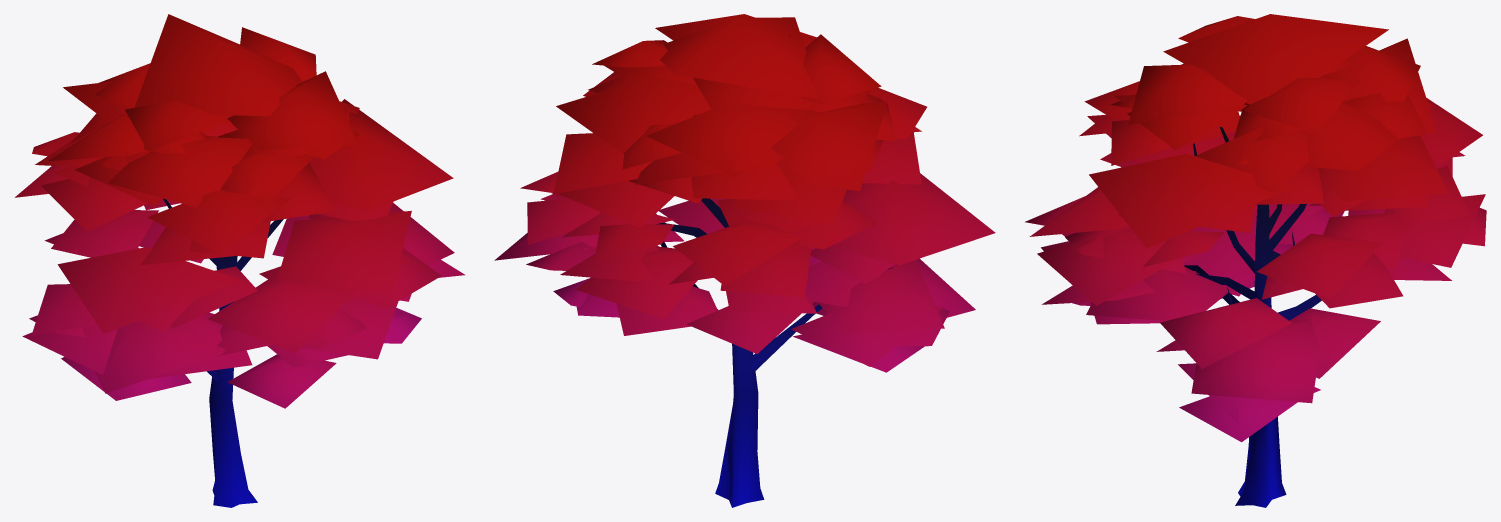
3 renders of one model, left to right at view 1: azimuth 30°, elevation 25°; view 2: azimuth 150°, elevation 25°; view 3: azimuth 270°, elevation 25°, orthographic. The views are drawn at different scales.
Parts seen in each view (by area): view 1: 25; view 2: 25; view 3: 25.
Boxes of the visible parts, left/top/right/bottom form: 25: left=15, top=14, right=464, bottom=507; 25: left=494, top=14, right=995, bottom=507; 25: left=1025, top=14, right=1486, bottom=507.
Size of the model in its own units: 7.83 by 8.45 by 7.36.
